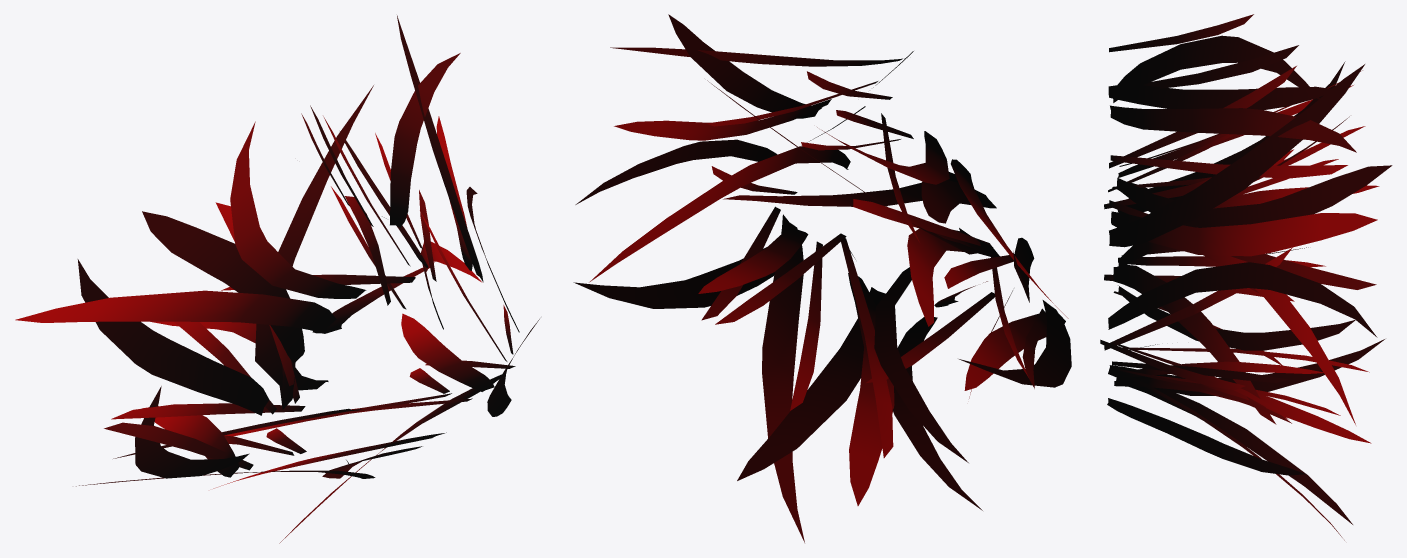
File: SM_GPUI_grassC.fbx
3 views of the same model, side by side, from view 1: azimuth 30°, elevation 25°; view 2: azimuth 150°, elevation 25°; view 3: azimuth 270°, elevation 25° (orthographic). The views are drawn at different scales.
Parts seen in each view (by area): view 1: SM_GPUI_grassC; view 2: SM_GPUI_grassC; view 3: SM_GPUI_grassC.
Boxes of the visible parts, x1,y1,x2,y2 form: SM_GPUI_grassC: (15, 15, 539, 543); SM_GPUI_grassC: (573, 14, 1071, 542); SM_GPUI_grassC: (1100, 14, 1392, 540).
Size of the model in its own units: 97.83 by 91.04 by 43.99.
